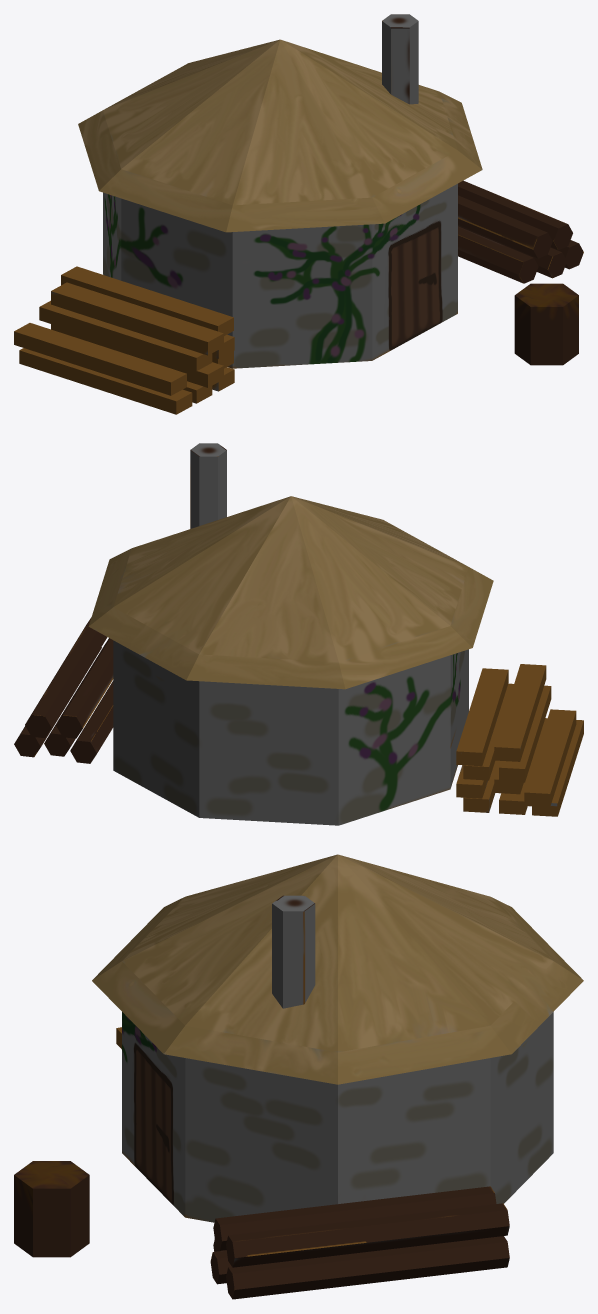
The model's file is LogHutV6.fbx.
3 views of the same model, one above another, from view 1: azimuth 30°, elevation 25°; view 2: azimuth 150°, elevation 25°; view 3: azimuth 270°, elevation 25° (orthographic). The views are drawn at different scales.
Parts seen in each view (by area): view 1: Circle; view 2: Circle; view 3: Circle.
Boxes of the visible parts, box(x1,y1,x2,y2) form: Circle: box(14, 14, 583, 414); Circle: box(14, 443, 583, 825); Circle: box(14, 854, 583, 1299).
Bounding box in the file's own units: 329 × 161 × 264.
Materials: 1 (1 with a texture image).
